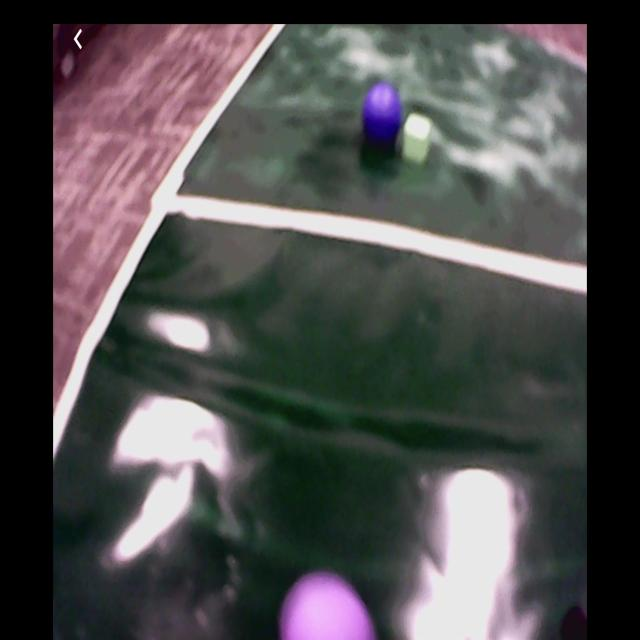ball: (279, 575, 374, 640), (363, 83, 402, 147)
